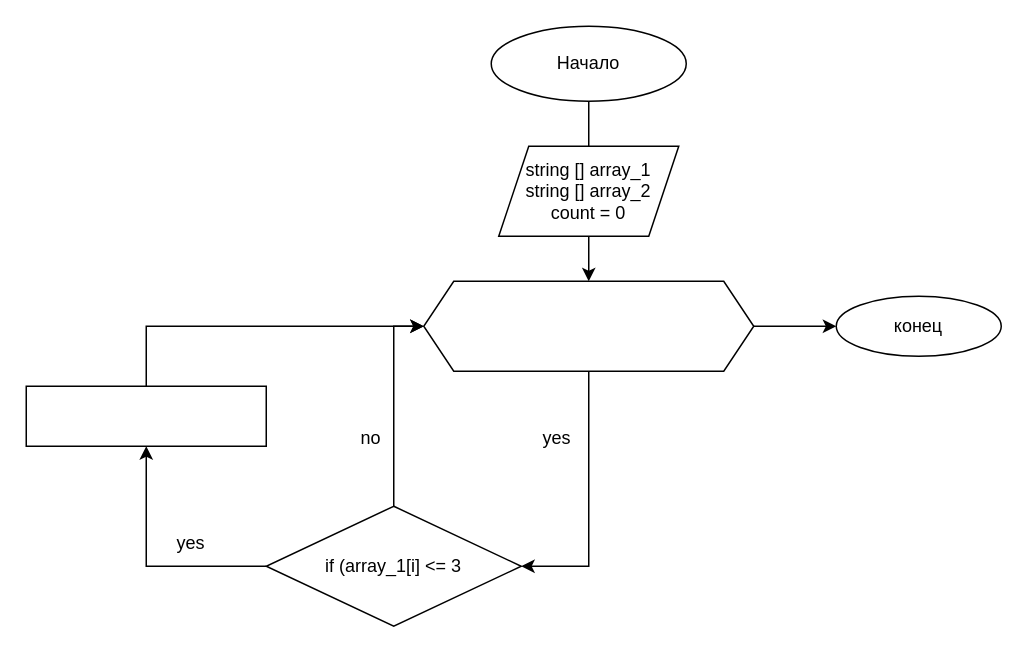
Some shapes in this 1028 by 653 pixel diagram are drawn without their labels. Each missing label, with the box of its shape:
array_2[count] = array_1[i] count++: (25, 385, 266, 446)
for (i=0; i<array.Lenght; i++): (422, 280, 754, 371)
